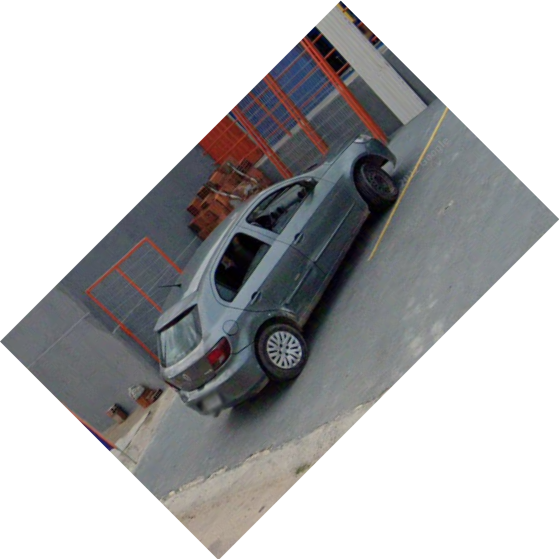car: (149, 129, 407, 426)
